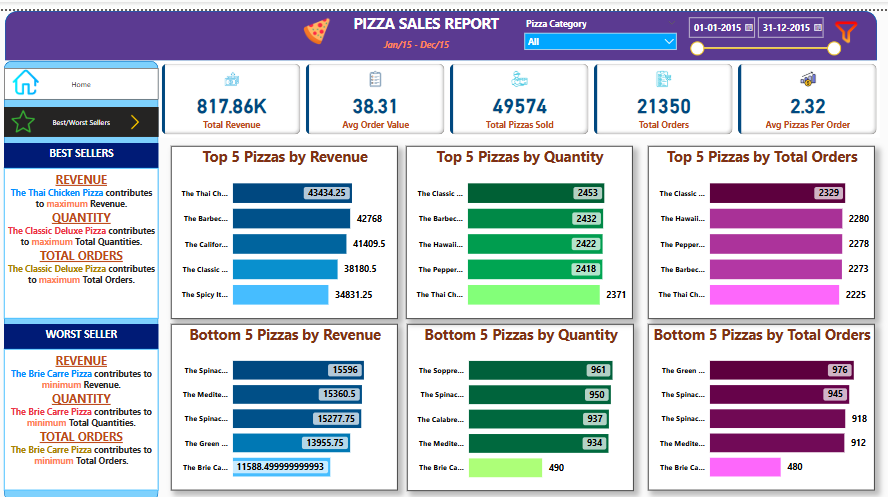

Layout of this report page (visuals, bound fields, positions):
{"tool":"powerbi","page":{"name":"Best/Worst Sellers","canvas":[1650,900],"ordinal":1},"visuals":[{"type":"cardVisual","fields":{"Data":["pizza_db sales.Total Revenue","pizza_db sales.Avg Order Value","pizza_db sales.Total Pizzas Sold","pizza_db sales.Total Orders","pizza_db sales.Avg Pizzas Per Order"]},"box":[307.4,91.2,1325.6,140.6],"z":0},{"type":"shape","box":[23.2,0,1603.7,91.2],"z":1000},{"type":"textbox","box":[597.9,0,401.7,68],"z":2000},{"type":"textbox","box":[676.7,46.3,207,41.7],"z":3000},{"type":"image","box":[523.7,7.7,146.8,60.3],"z":4000},{"type":"shape","box":[22.9,91.7,284.3,808.6],"z":10000},{"type":"textbox","box":[22.9,243,284.3,45.9],"z":11000},{"type":"textbox","box":[22.9,288.9,284.3,276.7],"z":12000},{"type":"textbox","box":[22.9,576.3,284.3,45.9],"z":13000},{"type":"textbox","box":[22.9,622.1,284.3,259.9],"z":14000},{"type":"slicer","fields":{"Values":["pizza_db sales.pizza_category"]},"box":[970.2,7.7,299.7,69.5],"z":15000},{"type":"slicer","fields":{"Values":["pizza_db sales.order_date"]},"box":[1269.9,1.5,301.3,91.2],"z":16000},{"type":"barChart","title":"Top 5 Pizzas by Revenue","fields":{"Y":["pizza_db sales.Total Revenue"],"Category":["pizza_db sales.pizza_name"]},"box":[330.2,247.6,417.3,317.9],"z":16001},{"type":"barChart","title":"Bottom 5 Pizzas by Total Orders","fields":{"Y":["pizza_db sales.Total Orders"],"Category":["pizza_db sales.pizza_name"]},"box":[1207.5,576.3,417.3,305.7],"z":16002},{"type":"barChart","title":"Bottom 5 Pizzas by Quantity","fields":{"Y":["pizza_db sales.Total Pizzas Sold"],"Category":["pizza_db sales.pizza_name"]},"box":[762.7,576.3,417.3,307.2],"z":16003},{"type":"barChart","title":"Bottom 5 Pizzas by Revenue","fields":{"Y":["pizza_db sales.Total Revenue"],"Category":["pizza_db sales.pizza_name"]},"box":[330.2,576.3,417.3,305.7],"z":16004},{"type":"barChart","title":"Top 5 Pizzas by Quantity","fields":{"Y":["pizza_db sales.Total Pizzas Sold"],"Category":["pizza_db sales.pizza_name"]},"box":[761.2,247.6,417.3,317.9],"z":16005},{"type":"barChart","title":"Top 5 Pizzas by Total Orders","fields":{"Y":["pizza_db sales.Total Orders"],"Category":["pizza_db sales.pizza_name"]},"box":[1207.5,247.6,417.3,317.9],"z":16006},{"type":"pageNavigator","box":[22.9,103.9,284.3,58.1],"z":16007},{"type":"pageNavigator","box":[22.9,177.3,284.3,55],"z":16008},{"type":"image","box":[233.9,186.5,59.6,36.7],"z":16009},{"type":"image","box":[33.6,93.2,58.1,74.9],"z":16010},{"type":"image","box":[24.5,177.3,67.3,53.5],"z":16011},{"type":"image","box":[1537.7,0,67.3,78],"z":16012}]}

Visuals, with their boxes in screenshot pixels (x1, y1, x2, y2), scaled from the page's 1650x900 canvas onto the 888x497 screenshot:
cardVisual - pizza_db sales.Total Revenue x pizza_db sales.Avg Order Value: [165,50,879,128]
shape: [12,0,876,50]
textbox: [322,0,538,38]
textbox: [364,26,476,49]
image: [282,4,361,38]
shape: [12,51,165,496]
textbox: [12,134,165,160]
textbox: [12,160,165,312]
textbox: [12,318,165,344]
textbox: [12,344,165,487]
slicer - pizza_db sales.pizza_category: [522,4,683,43]
slicer - pizza_db sales.order_date: [683,1,846,51]
"Top 5 Pizzas by Revenue" barChart: [178,137,402,312]
"Bottom 5 Pizzas by Total Orders" barChart: [650,318,874,487]
"Bottom 5 Pizzas by Quantity" barChart: [410,318,635,488]
"Bottom 5 Pizzas by Revenue" barChart: [178,318,402,487]
"Top 5 Pizzas by Quantity" barChart: [410,137,634,312]
"Top 5 Pizzas by Total Orders" barChart: [650,137,874,312]
pageNavigator: [12,57,165,89]
pageNavigator: [12,98,165,128]
image: [126,103,158,123]
image: [18,51,49,93]
image: [13,98,49,127]
image: [828,0,864,43]
